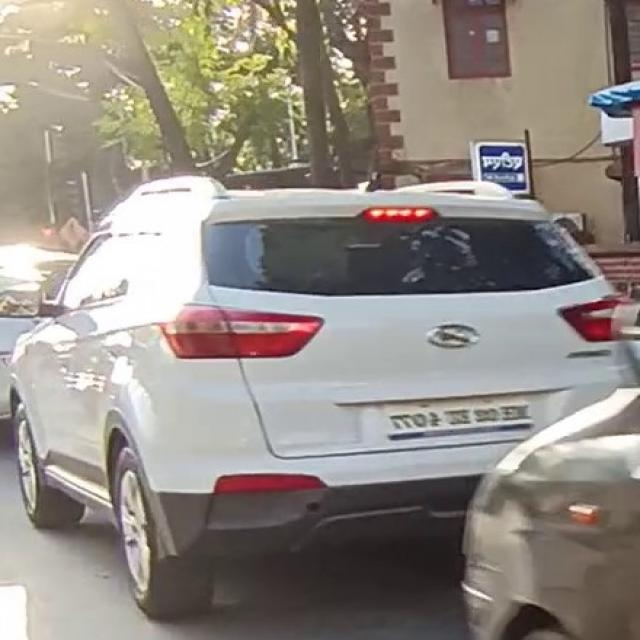license_plate: (382, 394, 536, 454)
